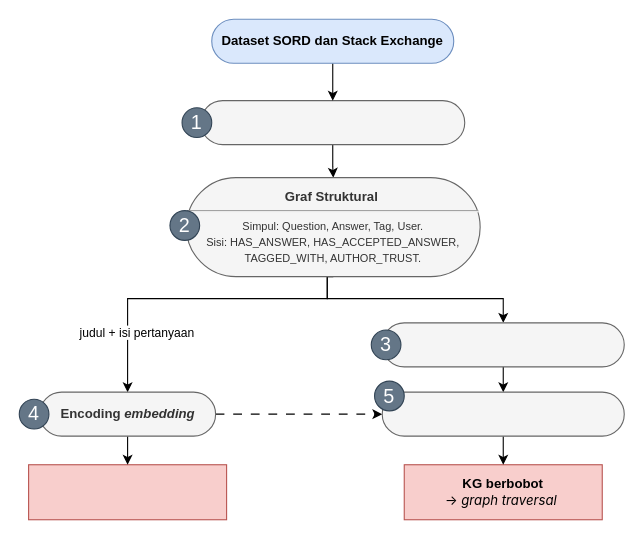
Image size: 644x539. Some labels were removed from this diagram. Each missing label, with the box of its shape:
Densifikasi Graf TAG_COOCCUR & EMBED_SIM: (381, 391, 624, 436)
Indeks vektor (FAISS) → entity anchoring, semantic expansion: (28, 464, 227, 520)
Pengayaan tautan antar- thread IS_RELATED_TO: (381, 322, 624, 367)
Validasi dan konsilidasi data Penggabungan dan deduplikasi: (200, 100, 465, 145)
